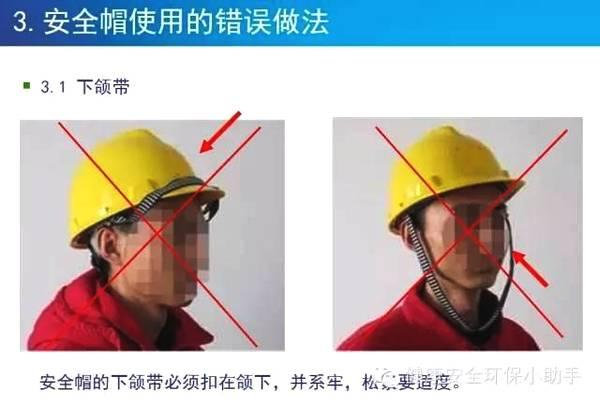helmet: (64, 130, 221, 244), (383, 127, 528, 234)
